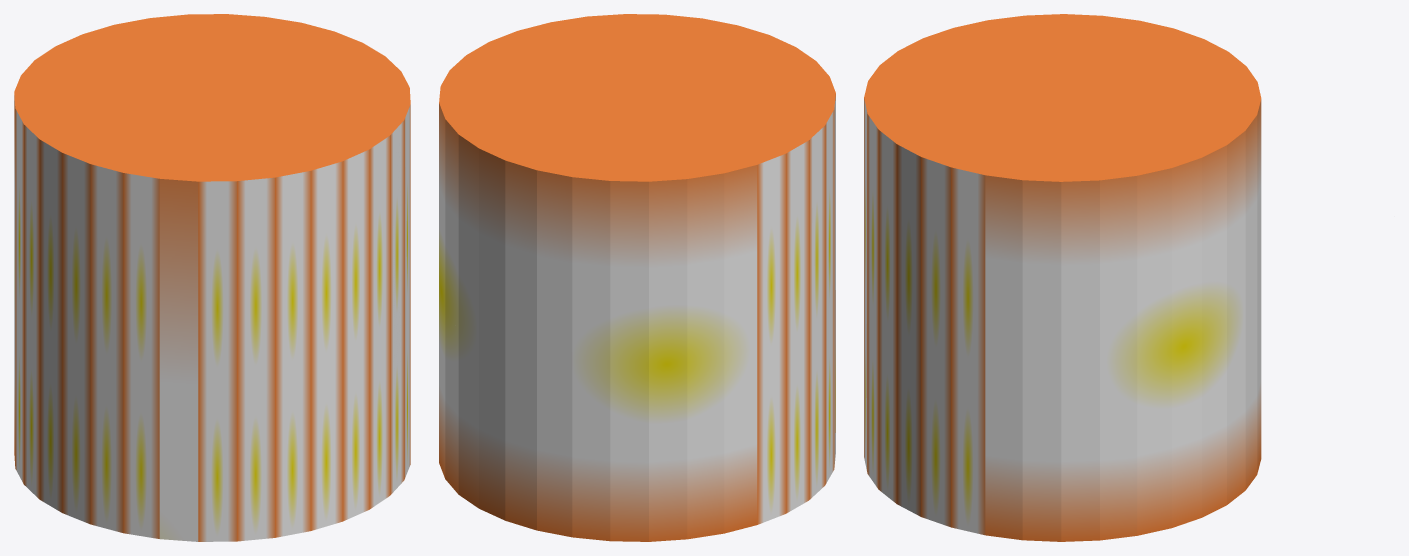
The model's file is beacon1.obj.
3 views of the same model, side by side, from view 1: azimuth 30°, elevation 25°; view 2: azimuth 150°, elevation 25°; view 3: azimuth 270°, elevation 25° (orthographic).
Parts seen in each view (by area): view 1: Beacon1_Cylinder.001; view 2: Beacon1_Cylinder.001; view 3: Beacon1_Cylinder.001.
Boxes of the visible parts, left/top/right/bottom form: Beacon1_Cylinder.001: left=14, top=14, right=410, bottom=541; Beacon1_Cylinder.001: left=439, top=14, right=835, bottom=541; Beacon1_Cylinder.001: left=864, top=14, right=1261, bottom=541.
Size of the model in its own units: 0.00151 by 0.00151 by 0.00201.
